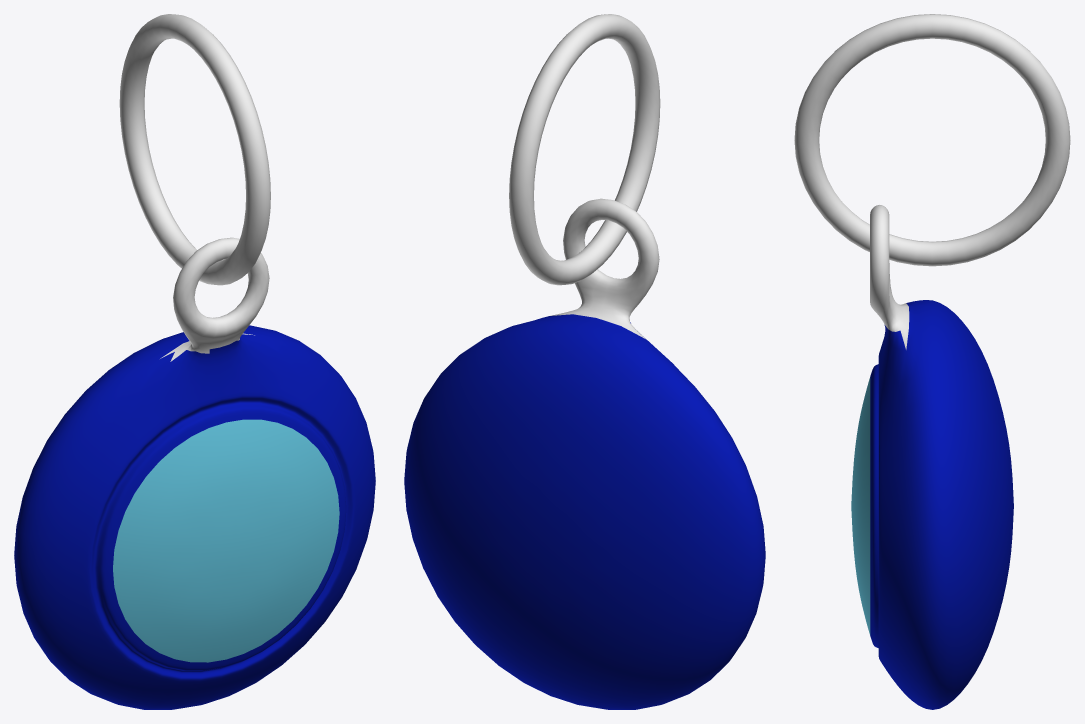
The model's file is CHARMS5.glb.
3 views of the same model, side by side, from view 1: azimuth 30°, elevation 25°; view 2: azimuth 150°, elevation 25°; view 3: azimuth 270°, elevation 25° (orthographic).
Visible parts, largest first — view 1: charm4; view 2: charm4; view 3: charm4.
Boxes of the visible parts, x1,y1,x2,y2 form: charm4: [14, 14, 375, 709]; charm4: [404, 14, 765, 709]; charm4: [794, 14, 1070, 709].
Bounding box in the file's own units: 2.38 × 4.36 × 1.61.
